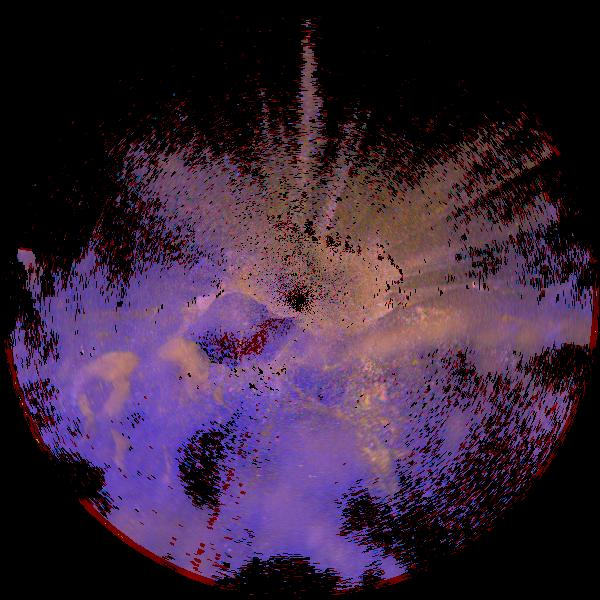roost: (67, 356, 136, 425), (143, 338, 209, 404), (81, 421, 132, 472), (133, 437, 184, 488)
